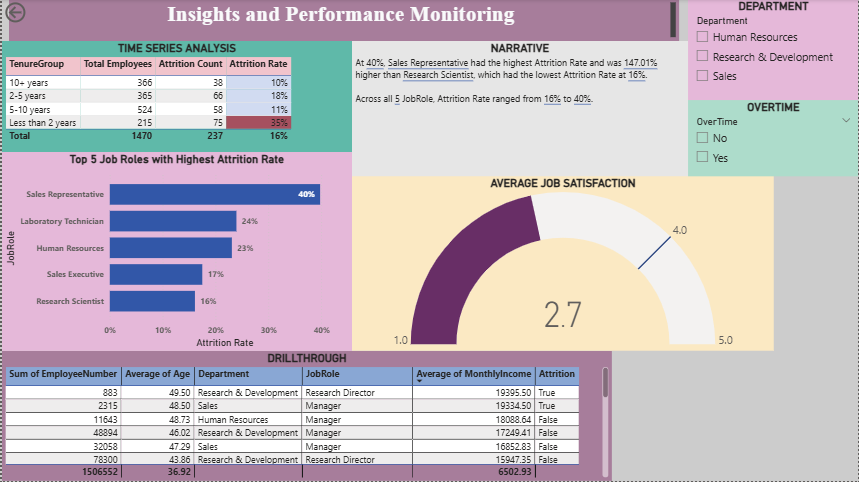

What the dashboard file says about the page in this screenshot:
{"tool":"powerbi","page":{"name":"Insights and Performance Monitoring","canvas":[1280,720],"ordinal":2},"visuals":[{"type":"textbox","box":[10.5,0,1000.8,62.7],"z":0},{"type":"tableEx","title":"TIME SERIES ANALYSIS","fields":{"Values":["EmployeeFacts.TenureGroup","EmployeeFacts.Total Employees","EmployeeFacts.Attrition Count","EmployeeFacts.Attrition Rate"]},"box":[0,62.7,522.8,165.8],"z":1},{"type":"barChart","title":"Top 5 Job Roles with Highest Attrition Rate","fields":{"Y":["EmployeeFacts.Attrition Rate"],"Category":["Dim_JobRole.JobRole"]},"box":[0,228.5,522.8,297.3],"z":2},{"type":"gauge","title":"AVERAGE JOB SATISFACTION","fields":{"Y":["EmployeeFacts.Avg Job Satisfaction"]},"box":[522.8,264.4,630.4,261.4],"z":3},{"type":"slicer","title":"OVERTIME","fields":{"Values":["EmployeeFacts.OverTime"]},"box":[1024.7,150.9,255.4,113.5],"z":4},{"type":"slicer","title":"DEPARTMENT","fields":{"Values":["Dim_Department.Department"]},"box":[1024.7,0,255.4,150.9],"z":5},{"type":"tableEx","title":"DRILLTHROUGH","fields":{"Values":["Sum(EmployeeFacts.EmployeeNumber)","Avg(EmployeeFacts.Age)","Dim_Department.Department","Dim_JobRole.JobRole","Avg(EmployeeFacts.MonthlyIncome)","EmployeeFacts.Attrition"]},"box":[0,525.8,911.2,194.2],"z":6},{"type":"actionButton","box":[0,0,100,40],"z":7},{"type":"textbox","title":"NARRATIVE","box":[522.8,62.7,501.9,201.7],"z":8}]}

Visuals, with their boxes in screenshot pixels (x1, y1, x2, y2), scaled from the page's 1280x720 canvas onto the 859x482 screenshot:
textbox: [7, 0, 679, 42]
"TIME SERIES ANALYSIS" tableEx: [0, 42, 351, 153]
"Top 5 Job Roles with Highest Attrition Rate" barChart: [0, 153, 351, 352]
"AVERAGE JOB SATISFACTION" gauge: [351, 177, 774, 352]
"OVERTIME" slicer: [688, 101, 858, 177]
"DEPARTMENT" slicer: [688, 0, 858, 101]
"DRILLTHROUGH" tableEx: [0, 352, 612, 481]
actionButton: [0, 0, 67, 27]
"NARRATIVE" textbox: [351, 42, 688, 177]
